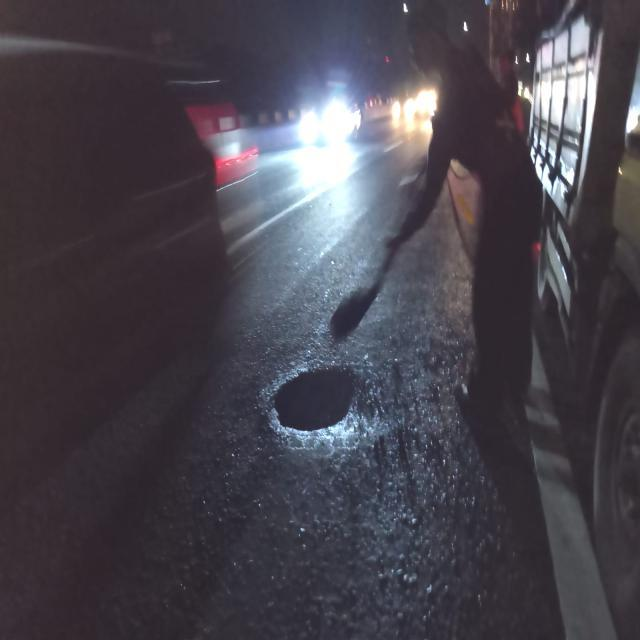Buraco: (263, 357, 366, 443)
